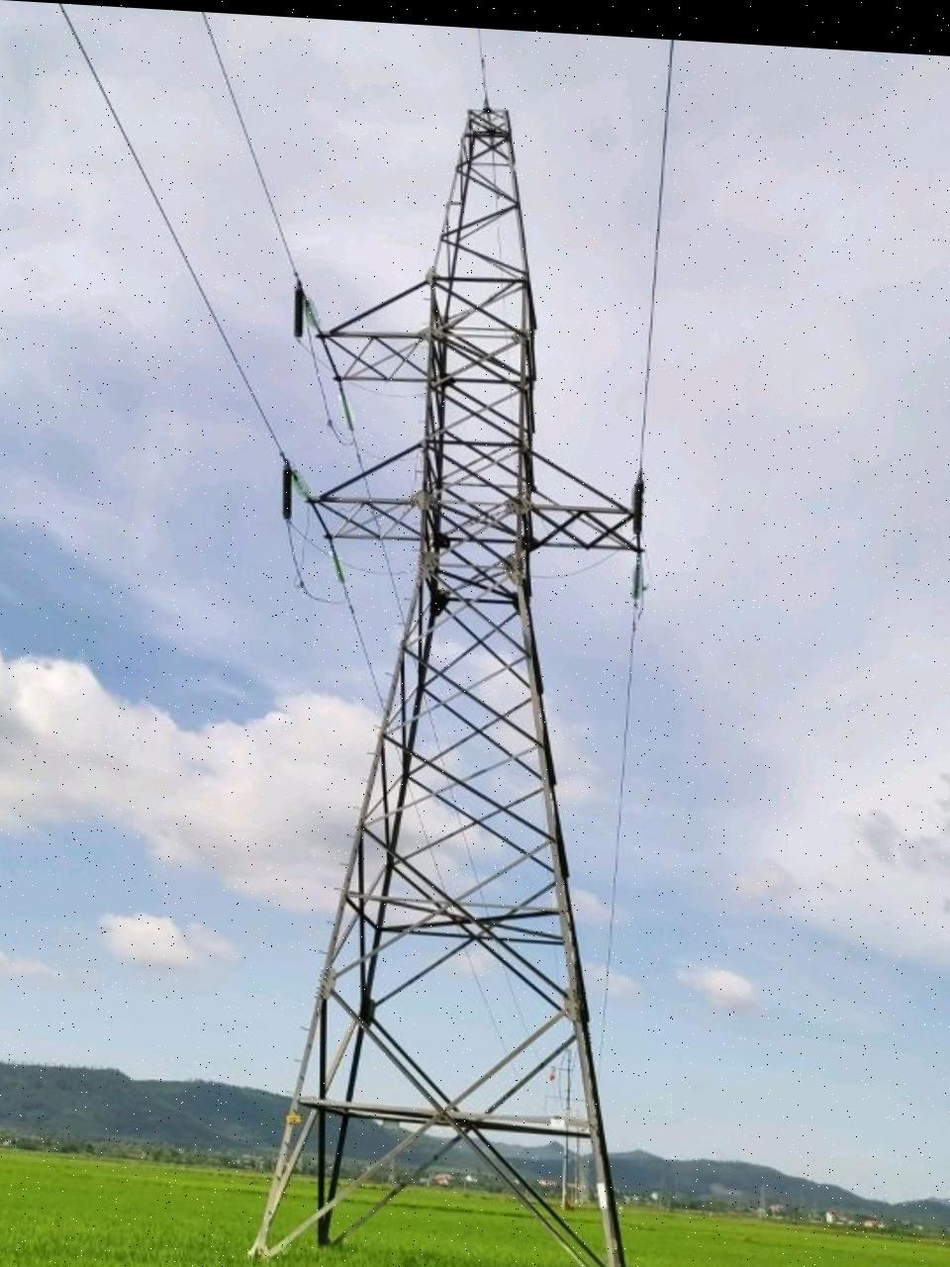tower: (216, 86, 660, 1267)
